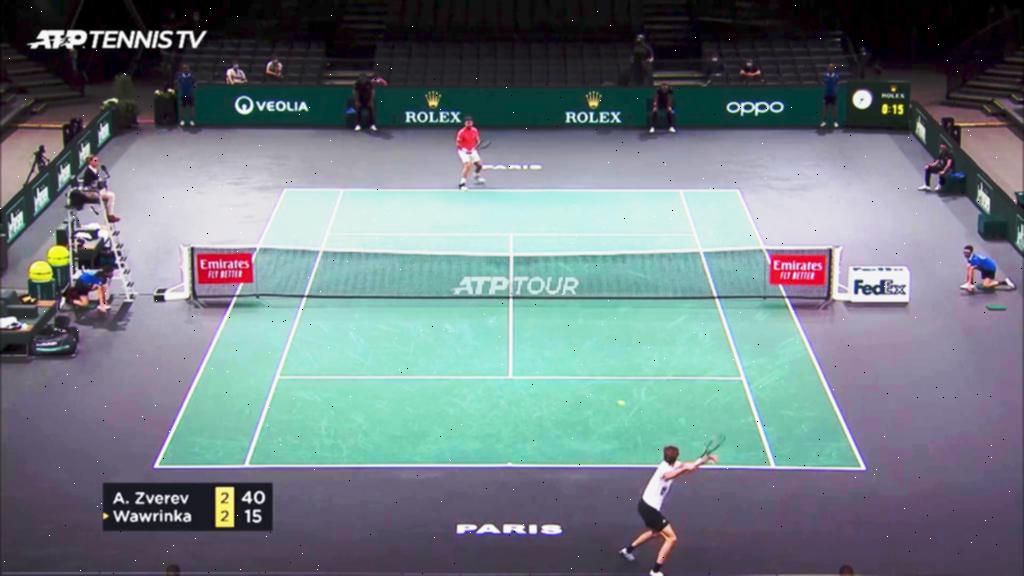tennis-court: (152, 188, 867, 470)
